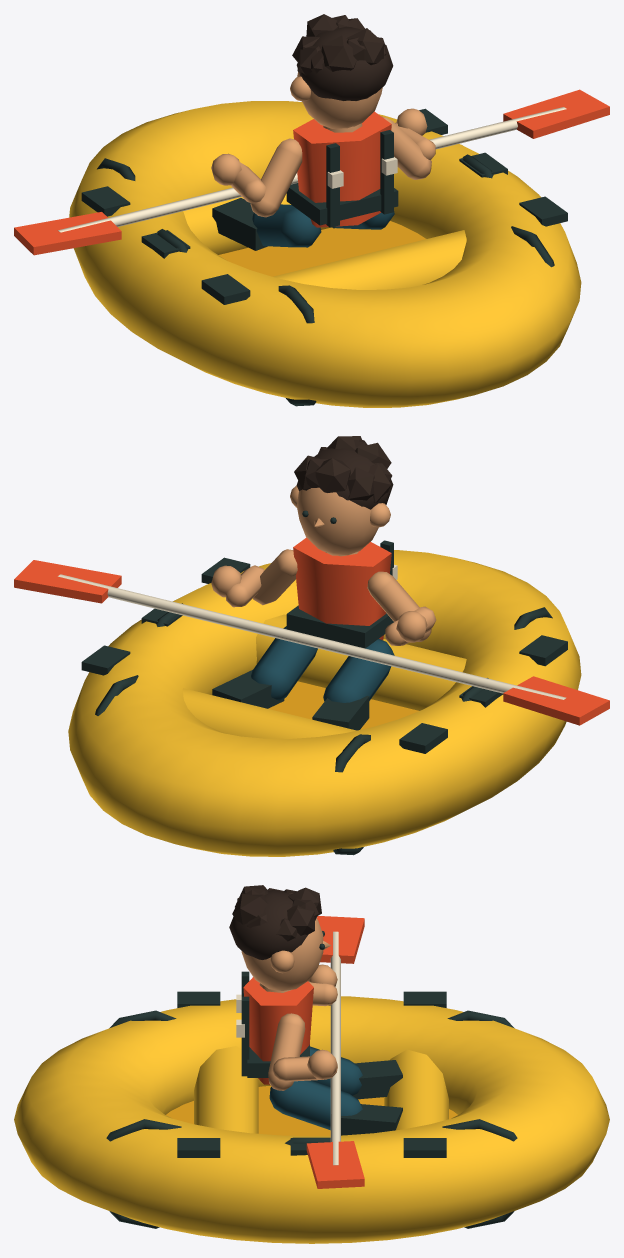
Rendered from expedition-raft.glb.
3 renders of one model, top to bottom at view 1: azimuth 30°, elevation 25°; view 2: azimuth 150°, elevation 25°; view 3: azimuth 270°, elevation 25°, orthographic. The views are drawn at different scales.
Parts seen in each view (by area): view 1: River Rush • expedition raft, Paddler, Paddle, LeftArm, RightArm; view 2: River Rush • expedition raft, Paddler, Paddle, RightArm, LeftArm; view 3: River Rush • expedition raft, Paddler, Paddle, RightArm, LeftArm.
Boxes of the visible parts, x1=… form: River Rush • expedition raft: x1=69, y1=101, x2=581, y2=407; Paddler: x1=212, y1=14, x2=398, y2=250; Paddle: x1=14, y1=89, x2=609, y2=255; LeftArm: x1=211, y1=138, x2=302, y2=217; RightArm: x1=381, y1=108, x2=435, y2=179; River Rush • expedition raft: x1=68, y1=550, x2=581, y2=856; Paddler: x1=212, y1=436, x2=397, y2=730; Paddle: x1=14, y1=560, x2=609, y2=725; RightArm: x1=211, y1=549, x2=297, y2=607; LeftArm: x1=367, y1=571, x2=436, y2=645; River Rush • expedition raft: x1=14, y1=991, x2=609, y2=1243; Paddler: x1=229, y1=885, x2=402, y2=1135; Paddle: x1=306, y1=916, x2=364, y2=1188; RightArm: x1=268, y1=1013, x2=337, y2=1090; LeftArm: x1=308, y1=964, x2=337, y2=1006.
Bounding box in the file's own units: 6.6 × 3.31 × 6.26.
